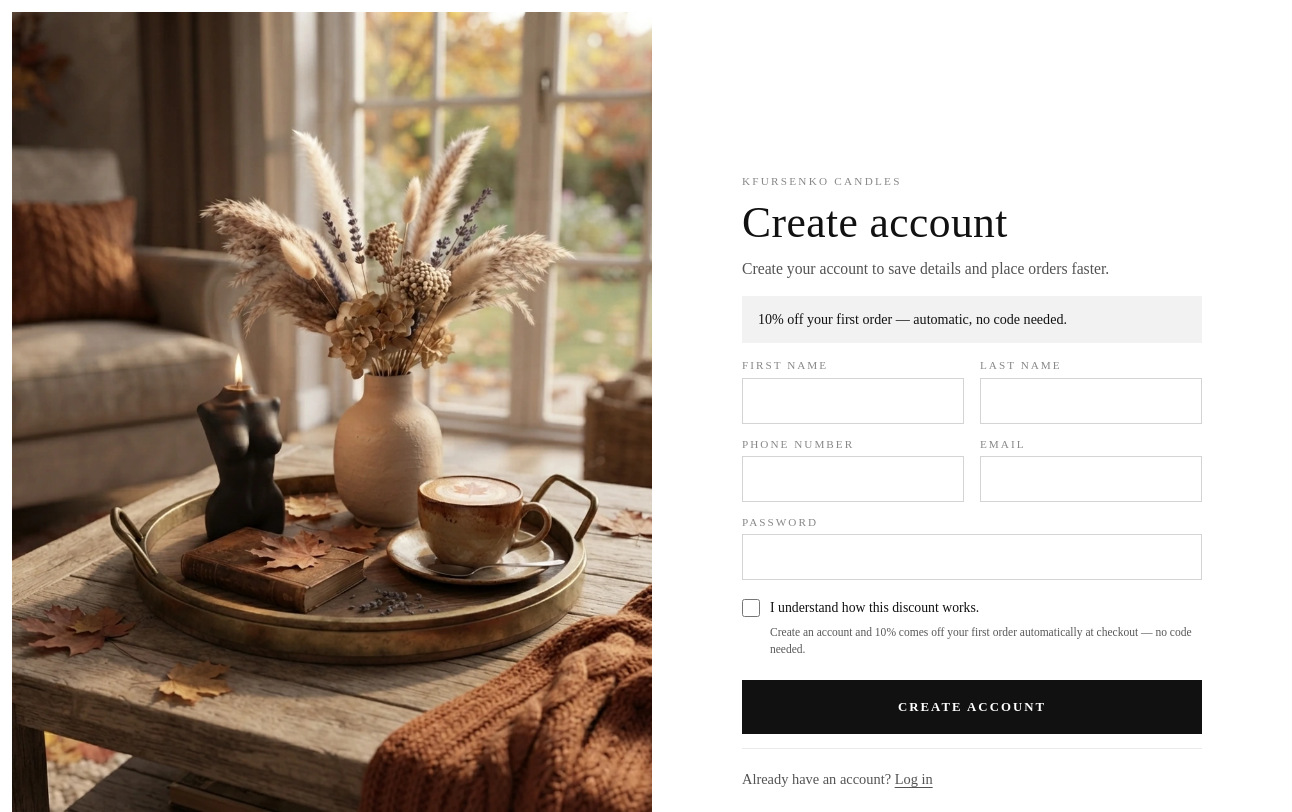
Test case: Register: accepting the sign-up discount's terms › won't create the account until the box is ticked
Expected: the checkbox labelled "I understand how this discount works." is shown, [742,599,760,617]
Type "Nina" into the field labelled "First name". click: (853, 401)
box: [742,378,964,424]
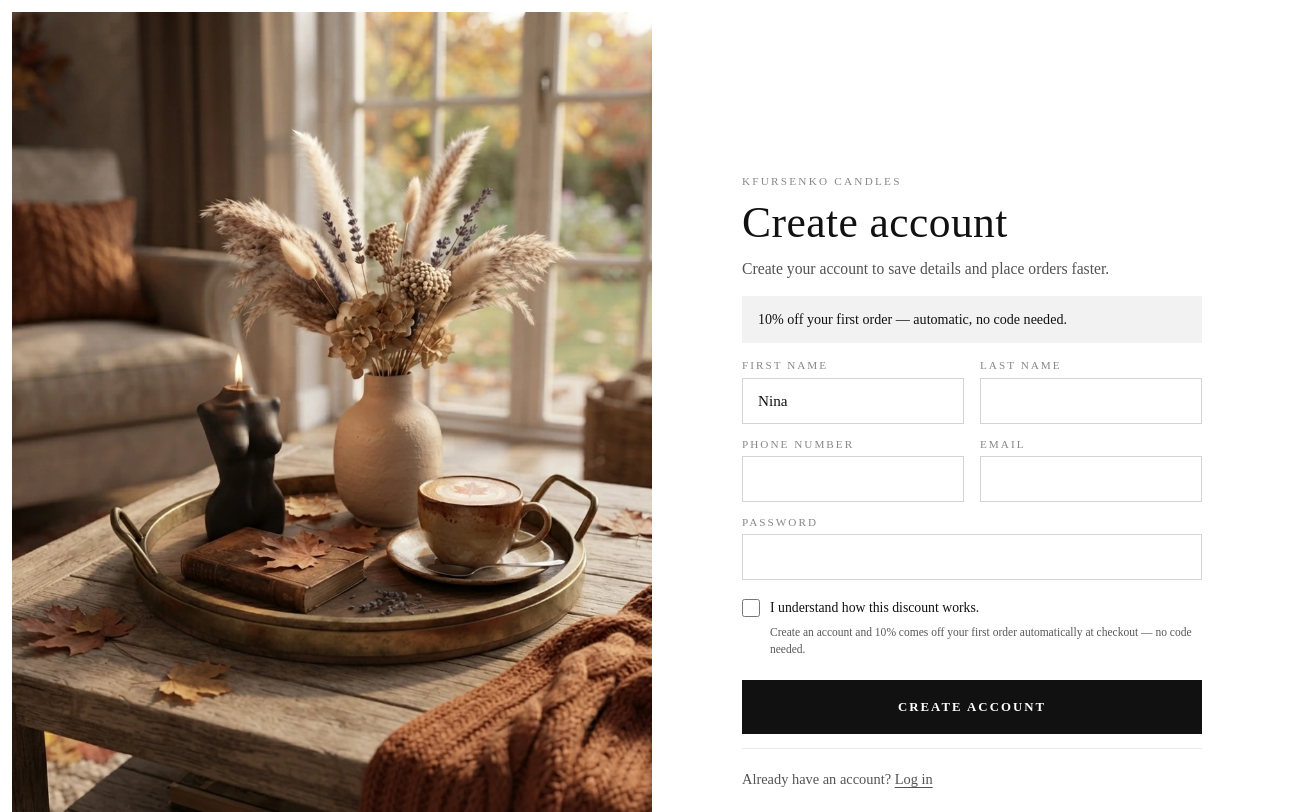
Type "New" into the field labelled "Last name". click: (1091, 401)
box: [980,378,1202,424]
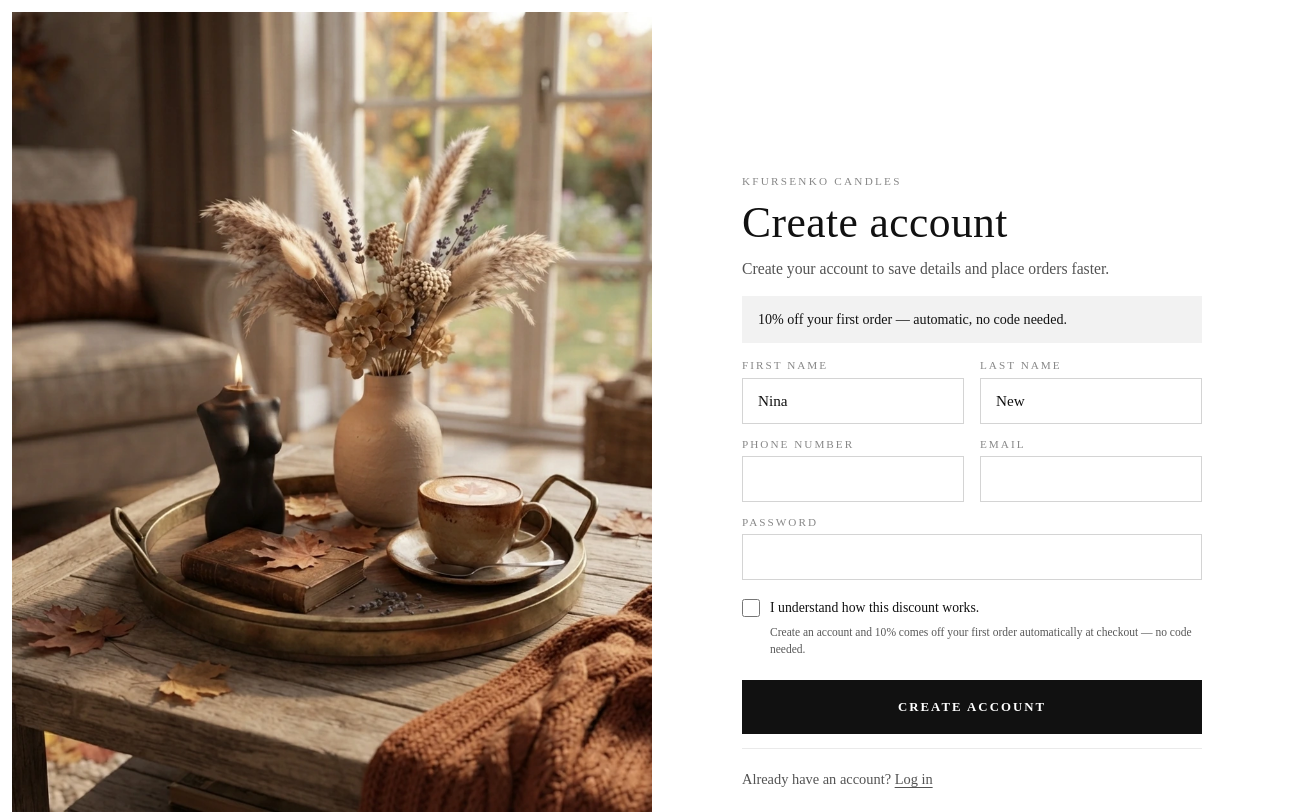
Type "+1 555 0100" into the field labelled "Phone number". click: (853, 479)
box: [742,456,964,502]
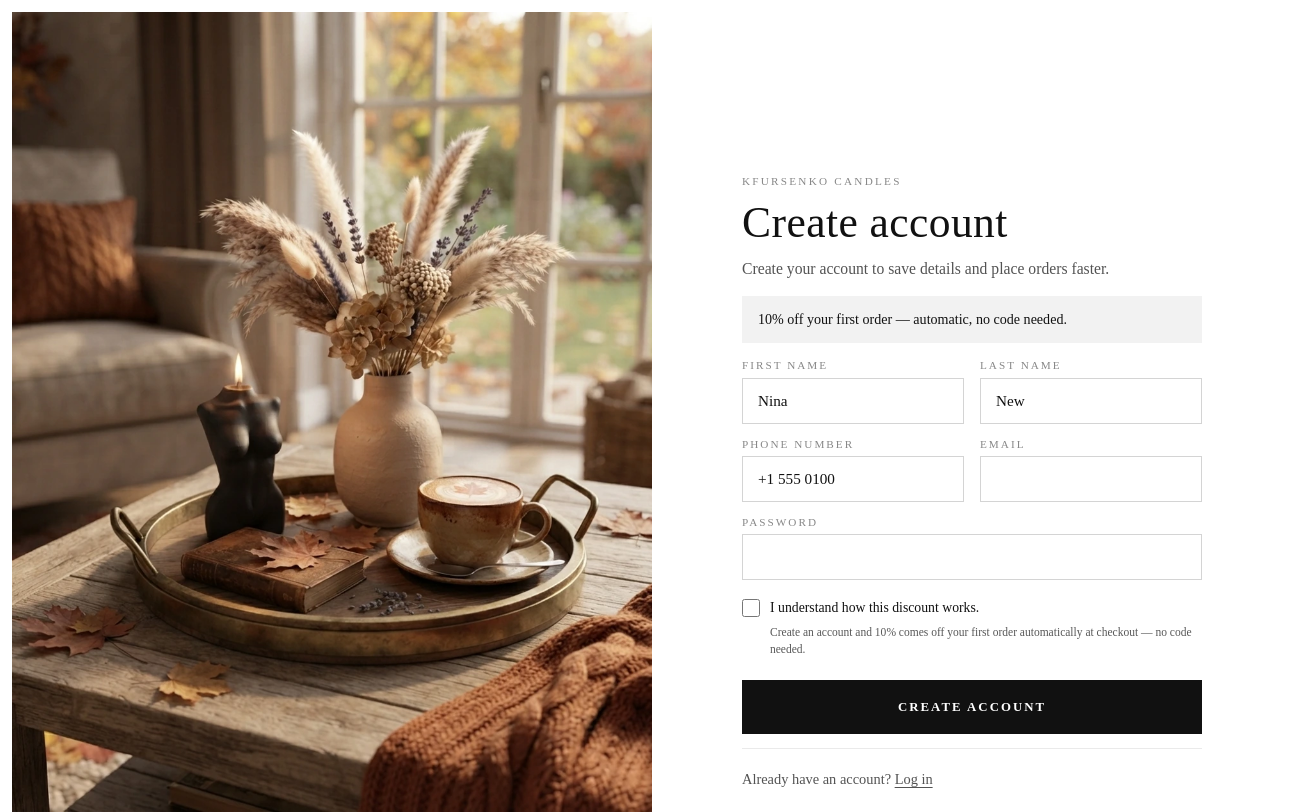
Type "nina@example.test" into the field labelled "Email". click: (1091, 479)
box: [980,456,1202,502]
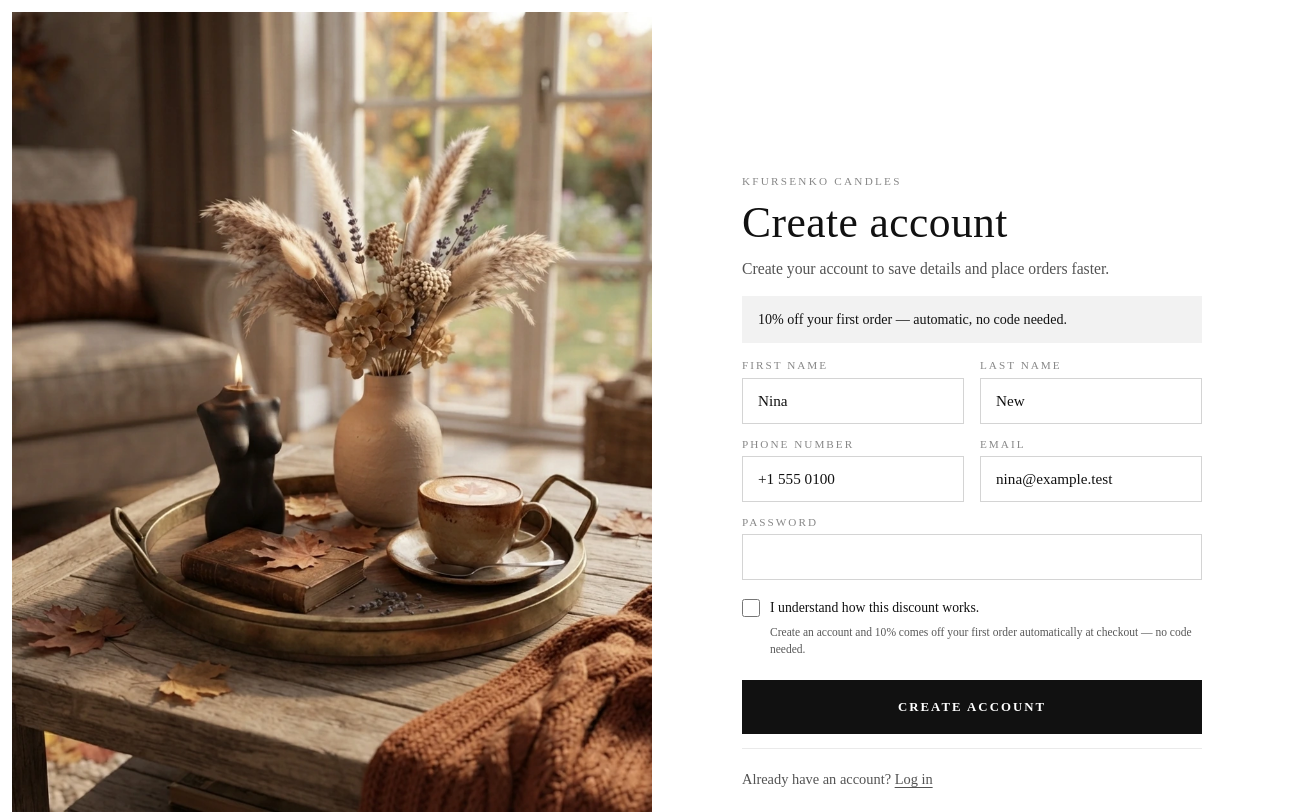
Type "testpass123" into the password field labelled "Password". click: (972, 557)
box: [742,534,1202,580]
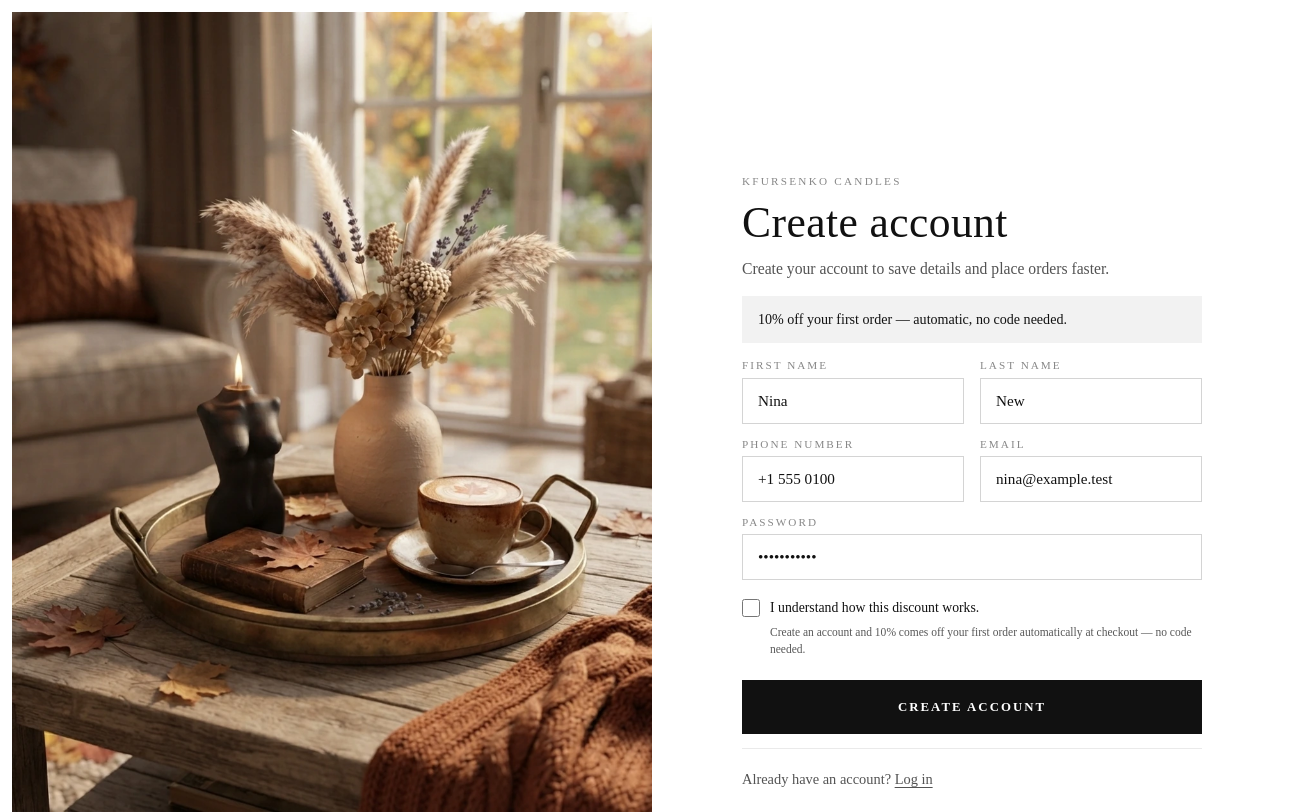
Click the button "Create account". click: (972, 707)
box: [742,680,1202,734]
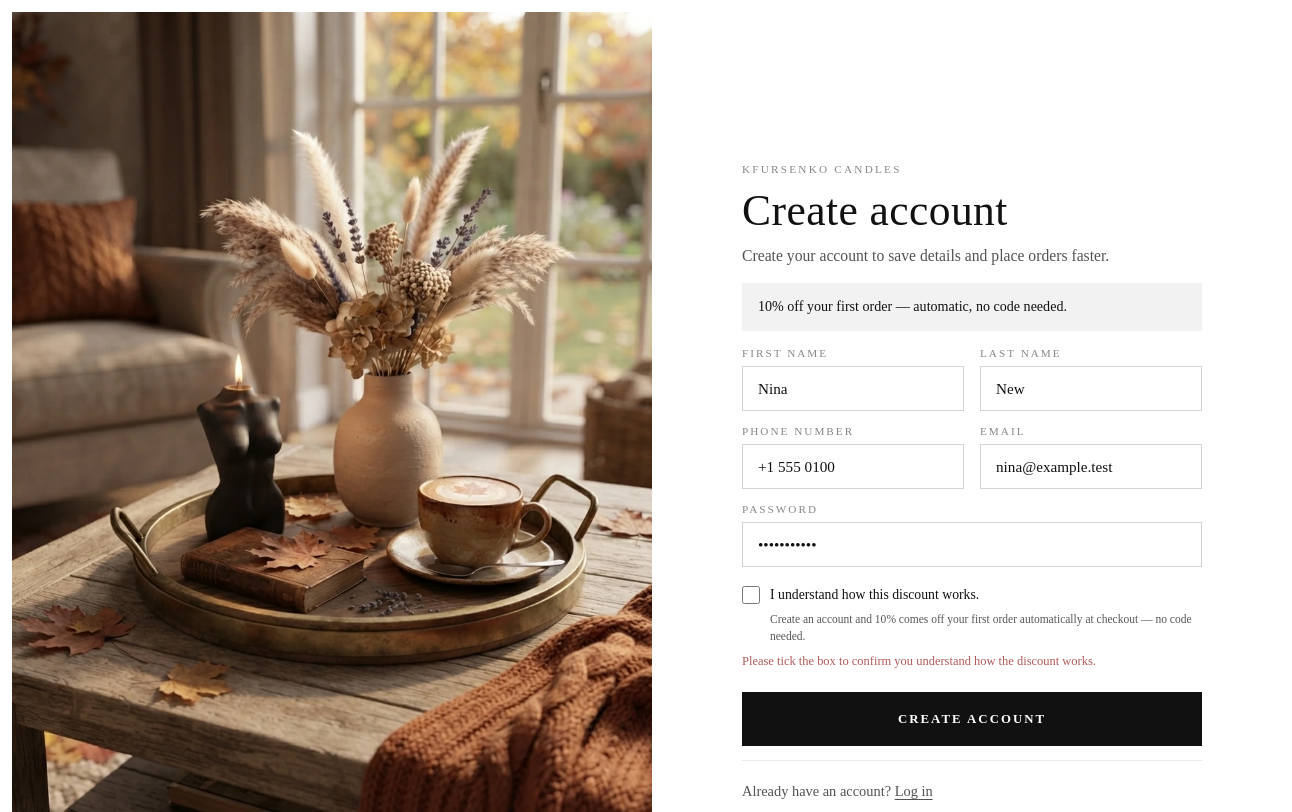
Expected: the text "Please tick the box to confirm you understand how the discount works." is shown, [742,654,1096,668]
